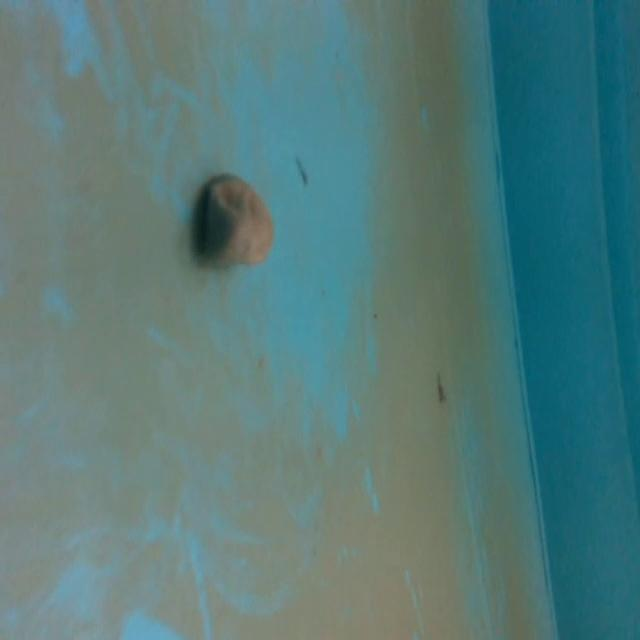rock: (192, 162, 280, 281)
